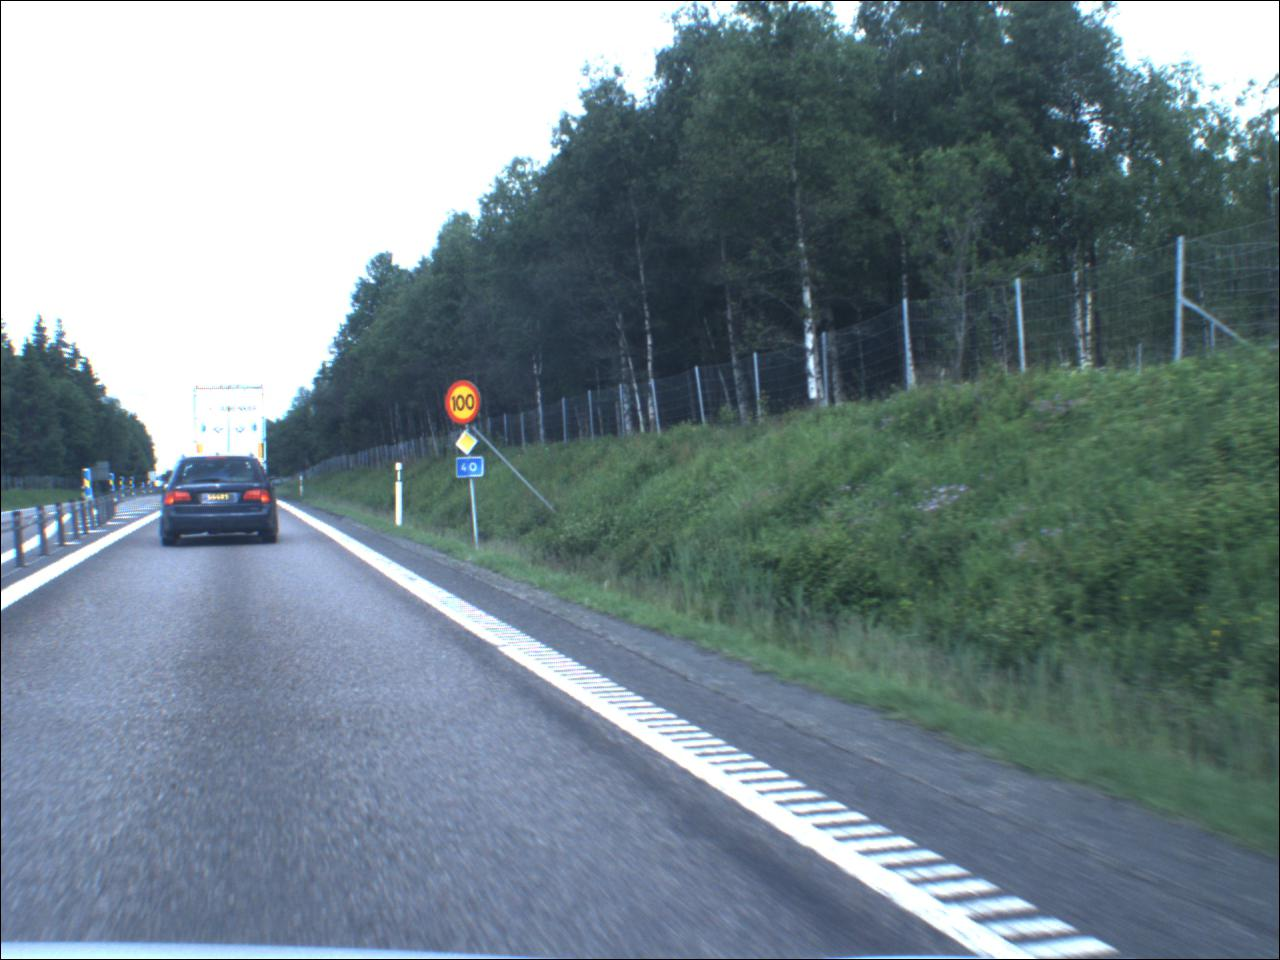100_SIGN: (446, 381, 484, 426)
PRIORITY_ROAD: (457, 433, 481, 457)
